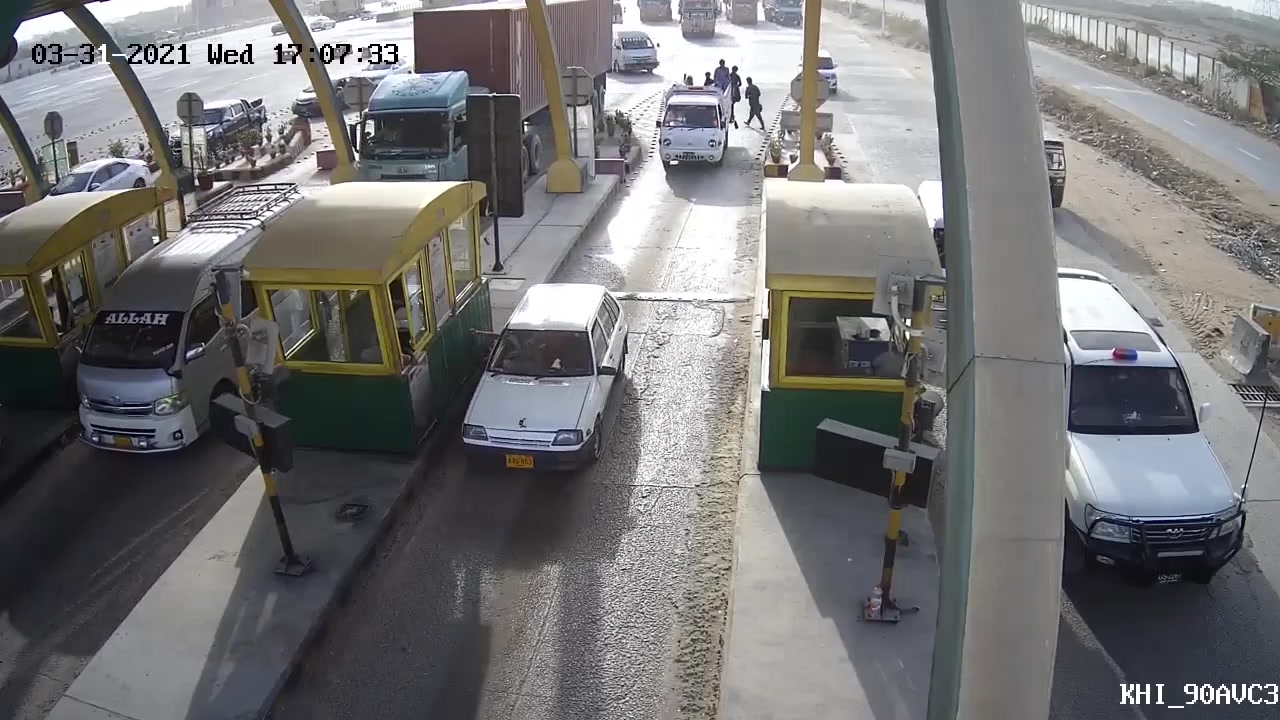F1: (452, 272, 629, 483)
F3: (644, 78, 736, 172)
